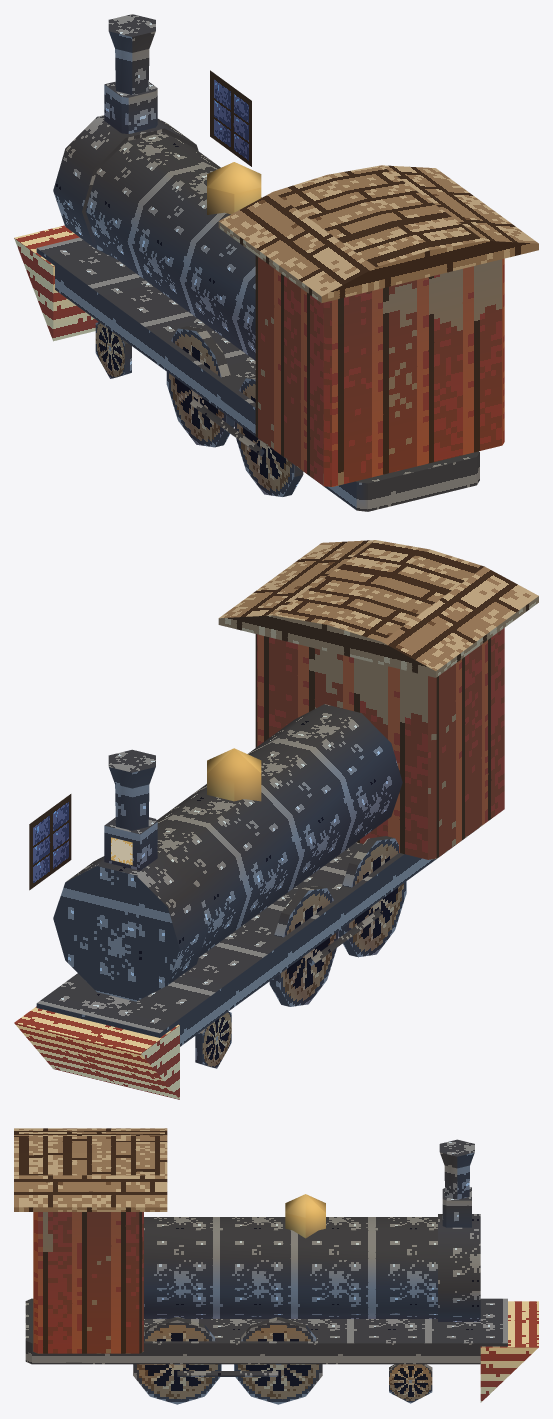
Rendered from wrail.locomotive__straight_stack.glb.
3 renders of one model, top to bottom at view 1: azimuth 30°, elevation 25°; view 2: azimuth 150°, elevation 25°; view 3: azimuth 270°, elevation 25°, orthographic. The views are drawn at different scales.
Visible parts, largest first — view 1: kit_cab, kit_cab_roof, kit_boiler, kit_frame, kit_drivers, kit_smokebox, kit_pilot, kit_stack, kit_card_panes, kit_domes, kit_lamp, kit_leaders (+1 smaller); view 2: kit_boiler, kit_cab, kit_cab_roof, kit_frame, kit_smokebox, kit_pilot, kit_drivers, kit_stack, kit_card_panes, kit_domes, kit_lamp, kit_leaders; view 3: kit_boiler, kit_frame, kit_cab, kit_cab_roof, kit_drivers, kit_smokebox, kit_pilot, kit_stack, kit_leaders, kit_domes, kit_lamp, kit_rods.
Part boxes in pixels (box(x1,y1,x2,y2)): kit_cab: box(255, 255, 504, 486); kit_cab_roof: box(218, 165, 538, 302); kit_boiler: box(85, 132, 261, 360); kit_frame: box(36, 237, 479, 511); kit_drivers: box(166, 326, 303, 496); kit_smokebox: box(53, 115, 198, 259); kit_pilot: box(14, 225, 98, 341); kit_stack: box(108, 14, 155, 94); kit_card_panes: box(210, 70, 251, 166); kit_domes: box(207, 162, 261, 214); kit_lamp: box(104, 81, 157, 133); kit_leaders: box(95, 322, 131, 378); kit_boiler: box(157, 704, 402, 956); kit_cab: box(255, 628, 504, 859); kit_cab_roof: box(218, 540, 538, 677); kit_frame: box(36, 828, 478, 1046); kit_smokebox: box(53, 853, 208, 1001); kit_pilot: box(14, 1006, 179, 1099); kit_drivers: box(269, 836, 406, 1006); kit_stack: box(108, 749, 155, 830); kit_card_panes: box(29, 794, 71, 890); kit_domes: box(207, 748, 261, 801); kit_lamp: box(104, 817, 157, 870); kit_leaders: box(195, 1011, 231, 1068); kit_boiler: box(144, 1217, 437, 1318); kit_frame: box(25, 1298, 507, 1364); kit_cab: box(33, 1212, 143, 1353); kit_cab_roof: box(14, 1128, 167, 1211); kit_drivers: box(133, 1317, 322, 1404); kit_smokebox: box(438, 1214, 480, 1321); kit_pilot: box(480, 1301, 538, 1402); kit_stack: box(439, 1139, 474, 1199); kit_leaders: box(389, 1364, 432, 1403); kit_domes: box(285, 1194, 325, 1238); kit_lamp: box(442, 1187, 471, 1227); kit_rods: box(177, 1371, 278, 1376).
Size of the model in its own units: 2.4 by 3.35 by 6.75.
8 materials, 7 textured.
